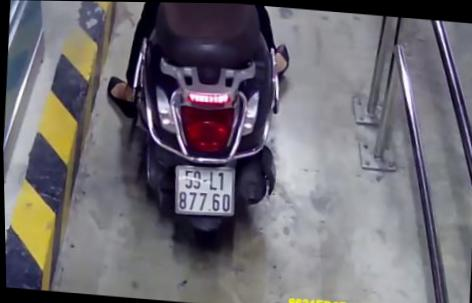LP: (171, 163, 237, 217)
